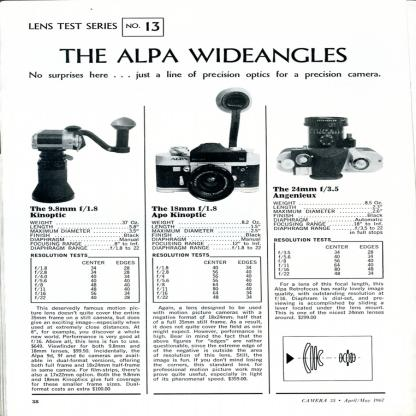Camera: (153, 138, 267, 202), (276, 118, 383, 182), (32, 116, 129, 155)
